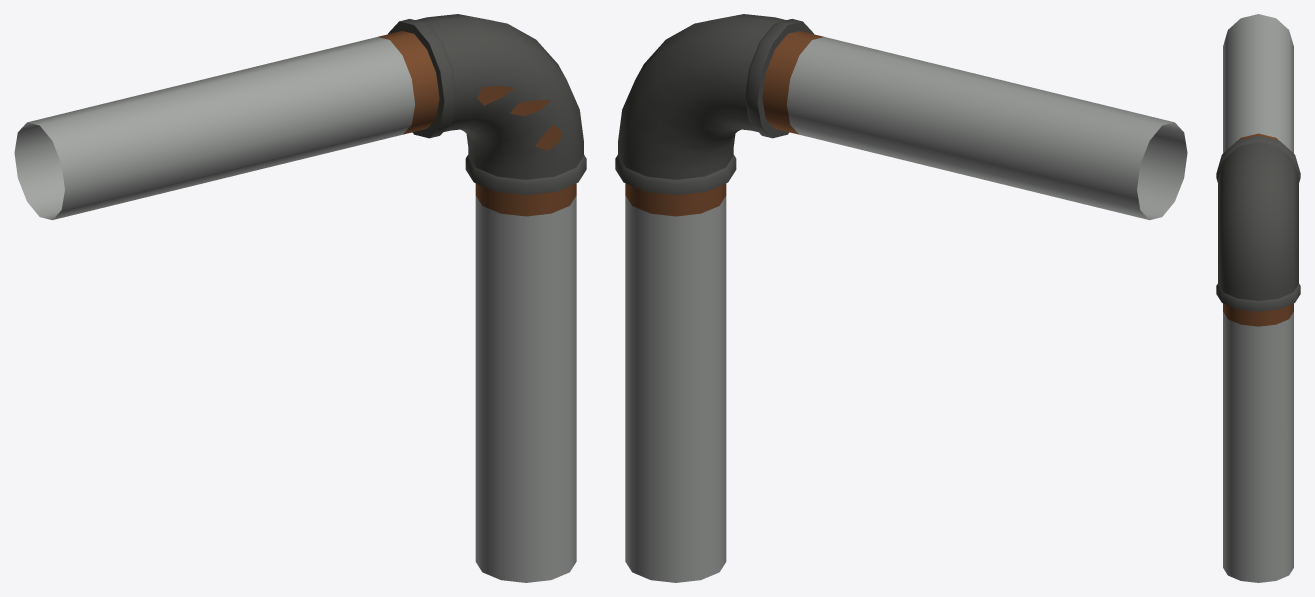
Rendered from pipe_elbow@2.glb.
3 renders of one model, left to right at view 1: azimuth 30°, elevation 25°; view 2: azimuth 150°, elevation 25°; view 3: azimuth 270°, elevation 25°, orthographic. The views are drawn at different scales.
Visible parts, largest first — view 1: pipe_elbow0, pipe_elbow2, pipe_elbow1; view 2: pipe_elbow0, pipe_elbow2, pipe_elbow1; view 3: pipe_elbow0, pipe_elbow2, pipe_elbow1.
Boxes of the visible parts, x1=… form: pipe_elbow0: x1=14, y1=37, x2=576, y2=582; pipe_elbow2: x1=388, y1=14, x2=586, y2=195; pipe_elbow1: x1=378, y1=31, x2=576, y2=216; pipe_elbow0: x1=625, y1=37, x2=1187, y2=582; pipe_elbow2: x1=615, y1=14, x2=813, y2=195; pipe_elbow1: x1=625, y1=31, x2=823, y2=216; pipe_elbow0: x1=1223, y1=14, x2=1293, y2=582; pipe_elbow2: x1=1216, y1=135, x2=1300, y2=311; pipe_elbow1: x1=1223, y1=133, x2=1293, y2=326.
Size of the model in its own units: 0.5538 by 0.5538 by 0.1076.
